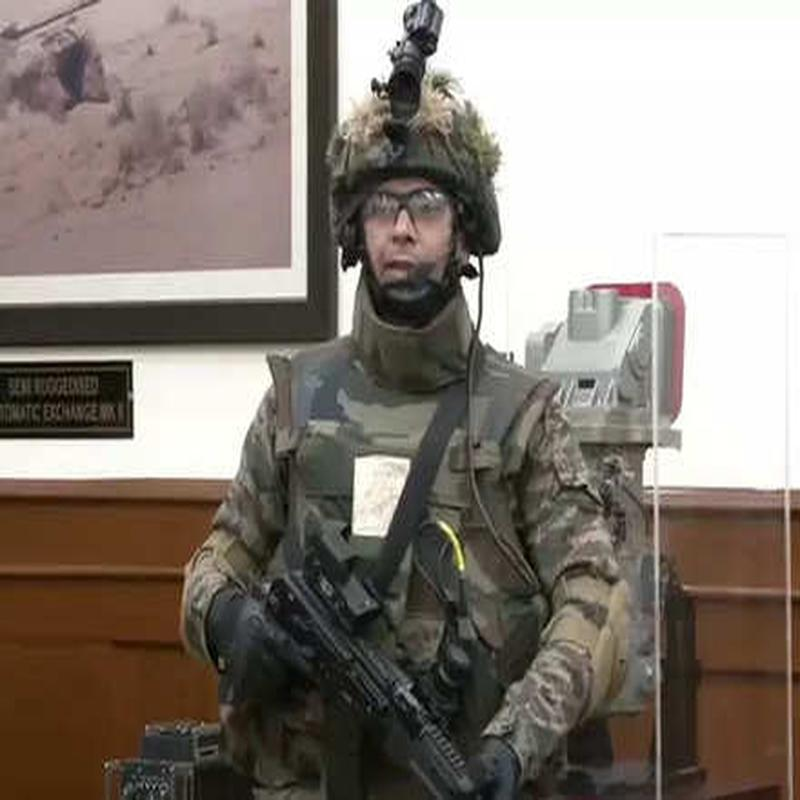GUN: (217, 548, 479, 800)
